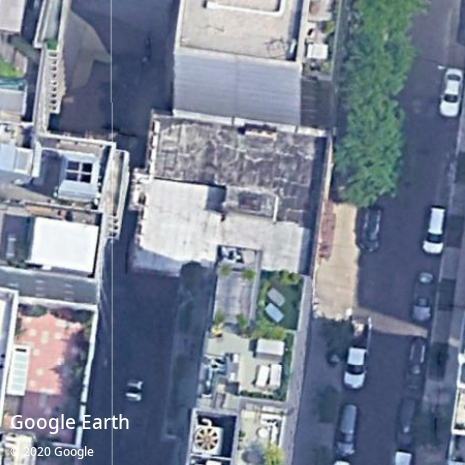Vent: (194, 427, 219, 451)
